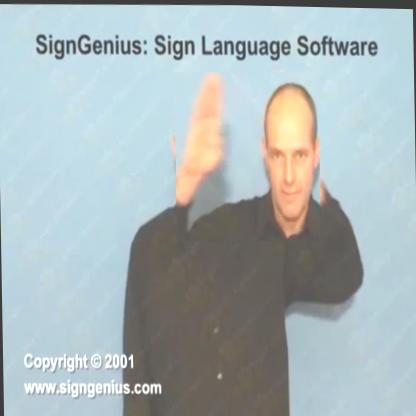Hello: (174, 69, 320, 242)
